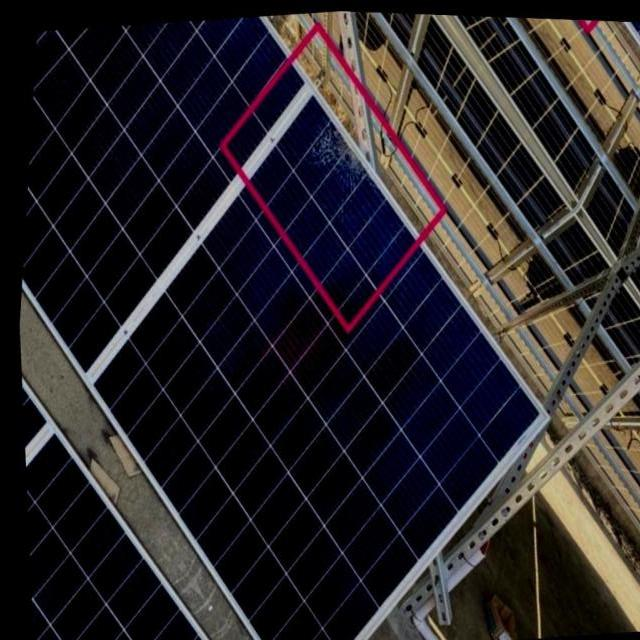cracked: (289, 121, 370, 218)
